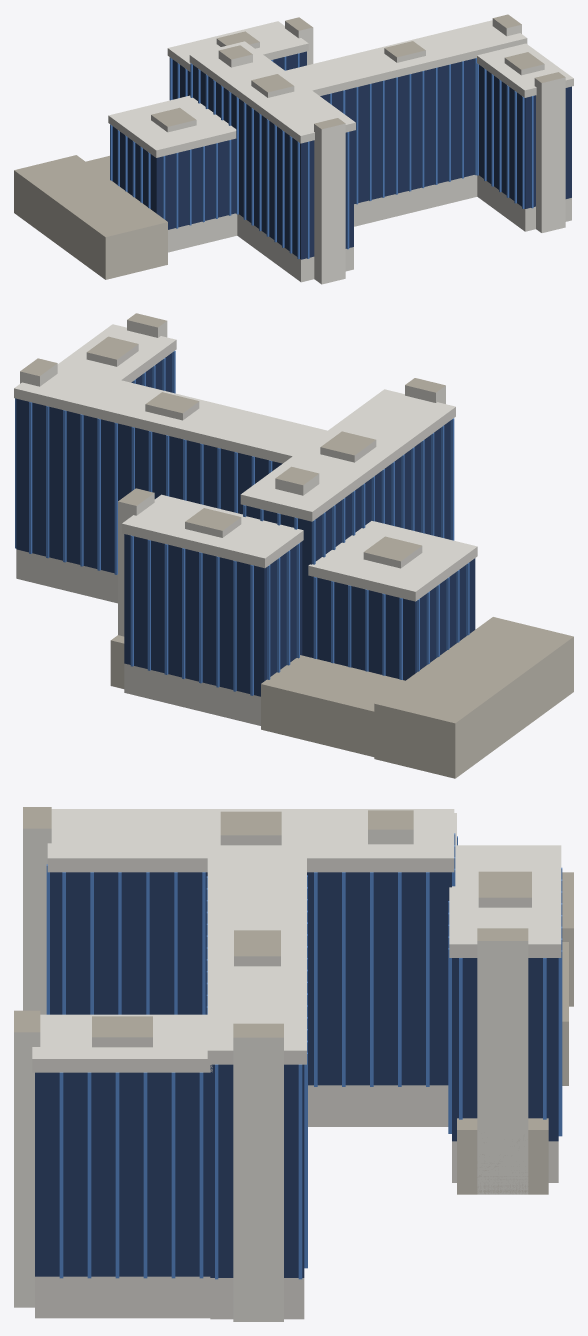
Rendered from the_linq_hotel_casino__w115773426.glb.
3 renders of one model, top to bottom at view 1: azimuth 30°, elevation 25°; view 2: azimuth 150°, elevation 25°; view 3: azimuth 270°, elevation 25°, orthographic. The views are drawn at different scales.
Parts seen in each view (by area): view 1: Hotel_w115773426; view 2: Hotel_w115773426; view 3: Hotel_w115773426.
Part boxes in pixels (bbox=[...]): Hotel_w115773426: bbox=[14, 14, 573, 284]; Hotel_w115773426: bbox=[14, 313, 573, 778]; Hotel_w115773426: bbox=[14, 807, 573, 1321].
Bounding box in the file's own units: 173 × 61.7 × 110.
